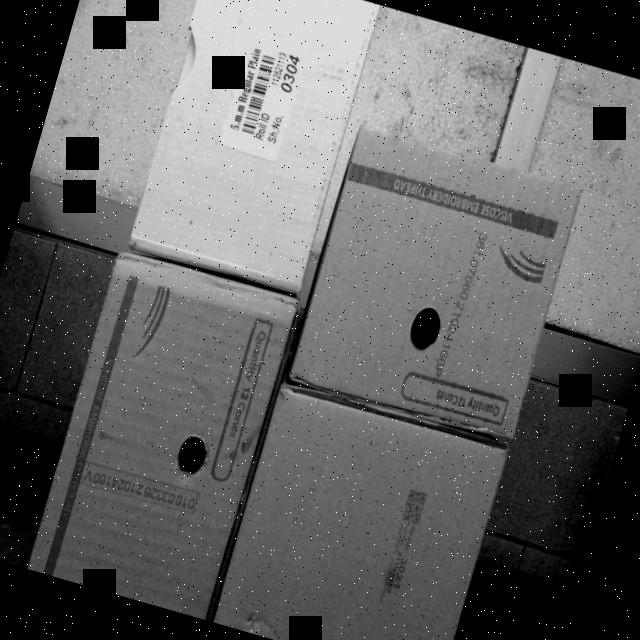box: (23, 242, 300, 620), (291, 128, 582, 438), (123, 0, 382, 291), (217, 389, 508, 640)
